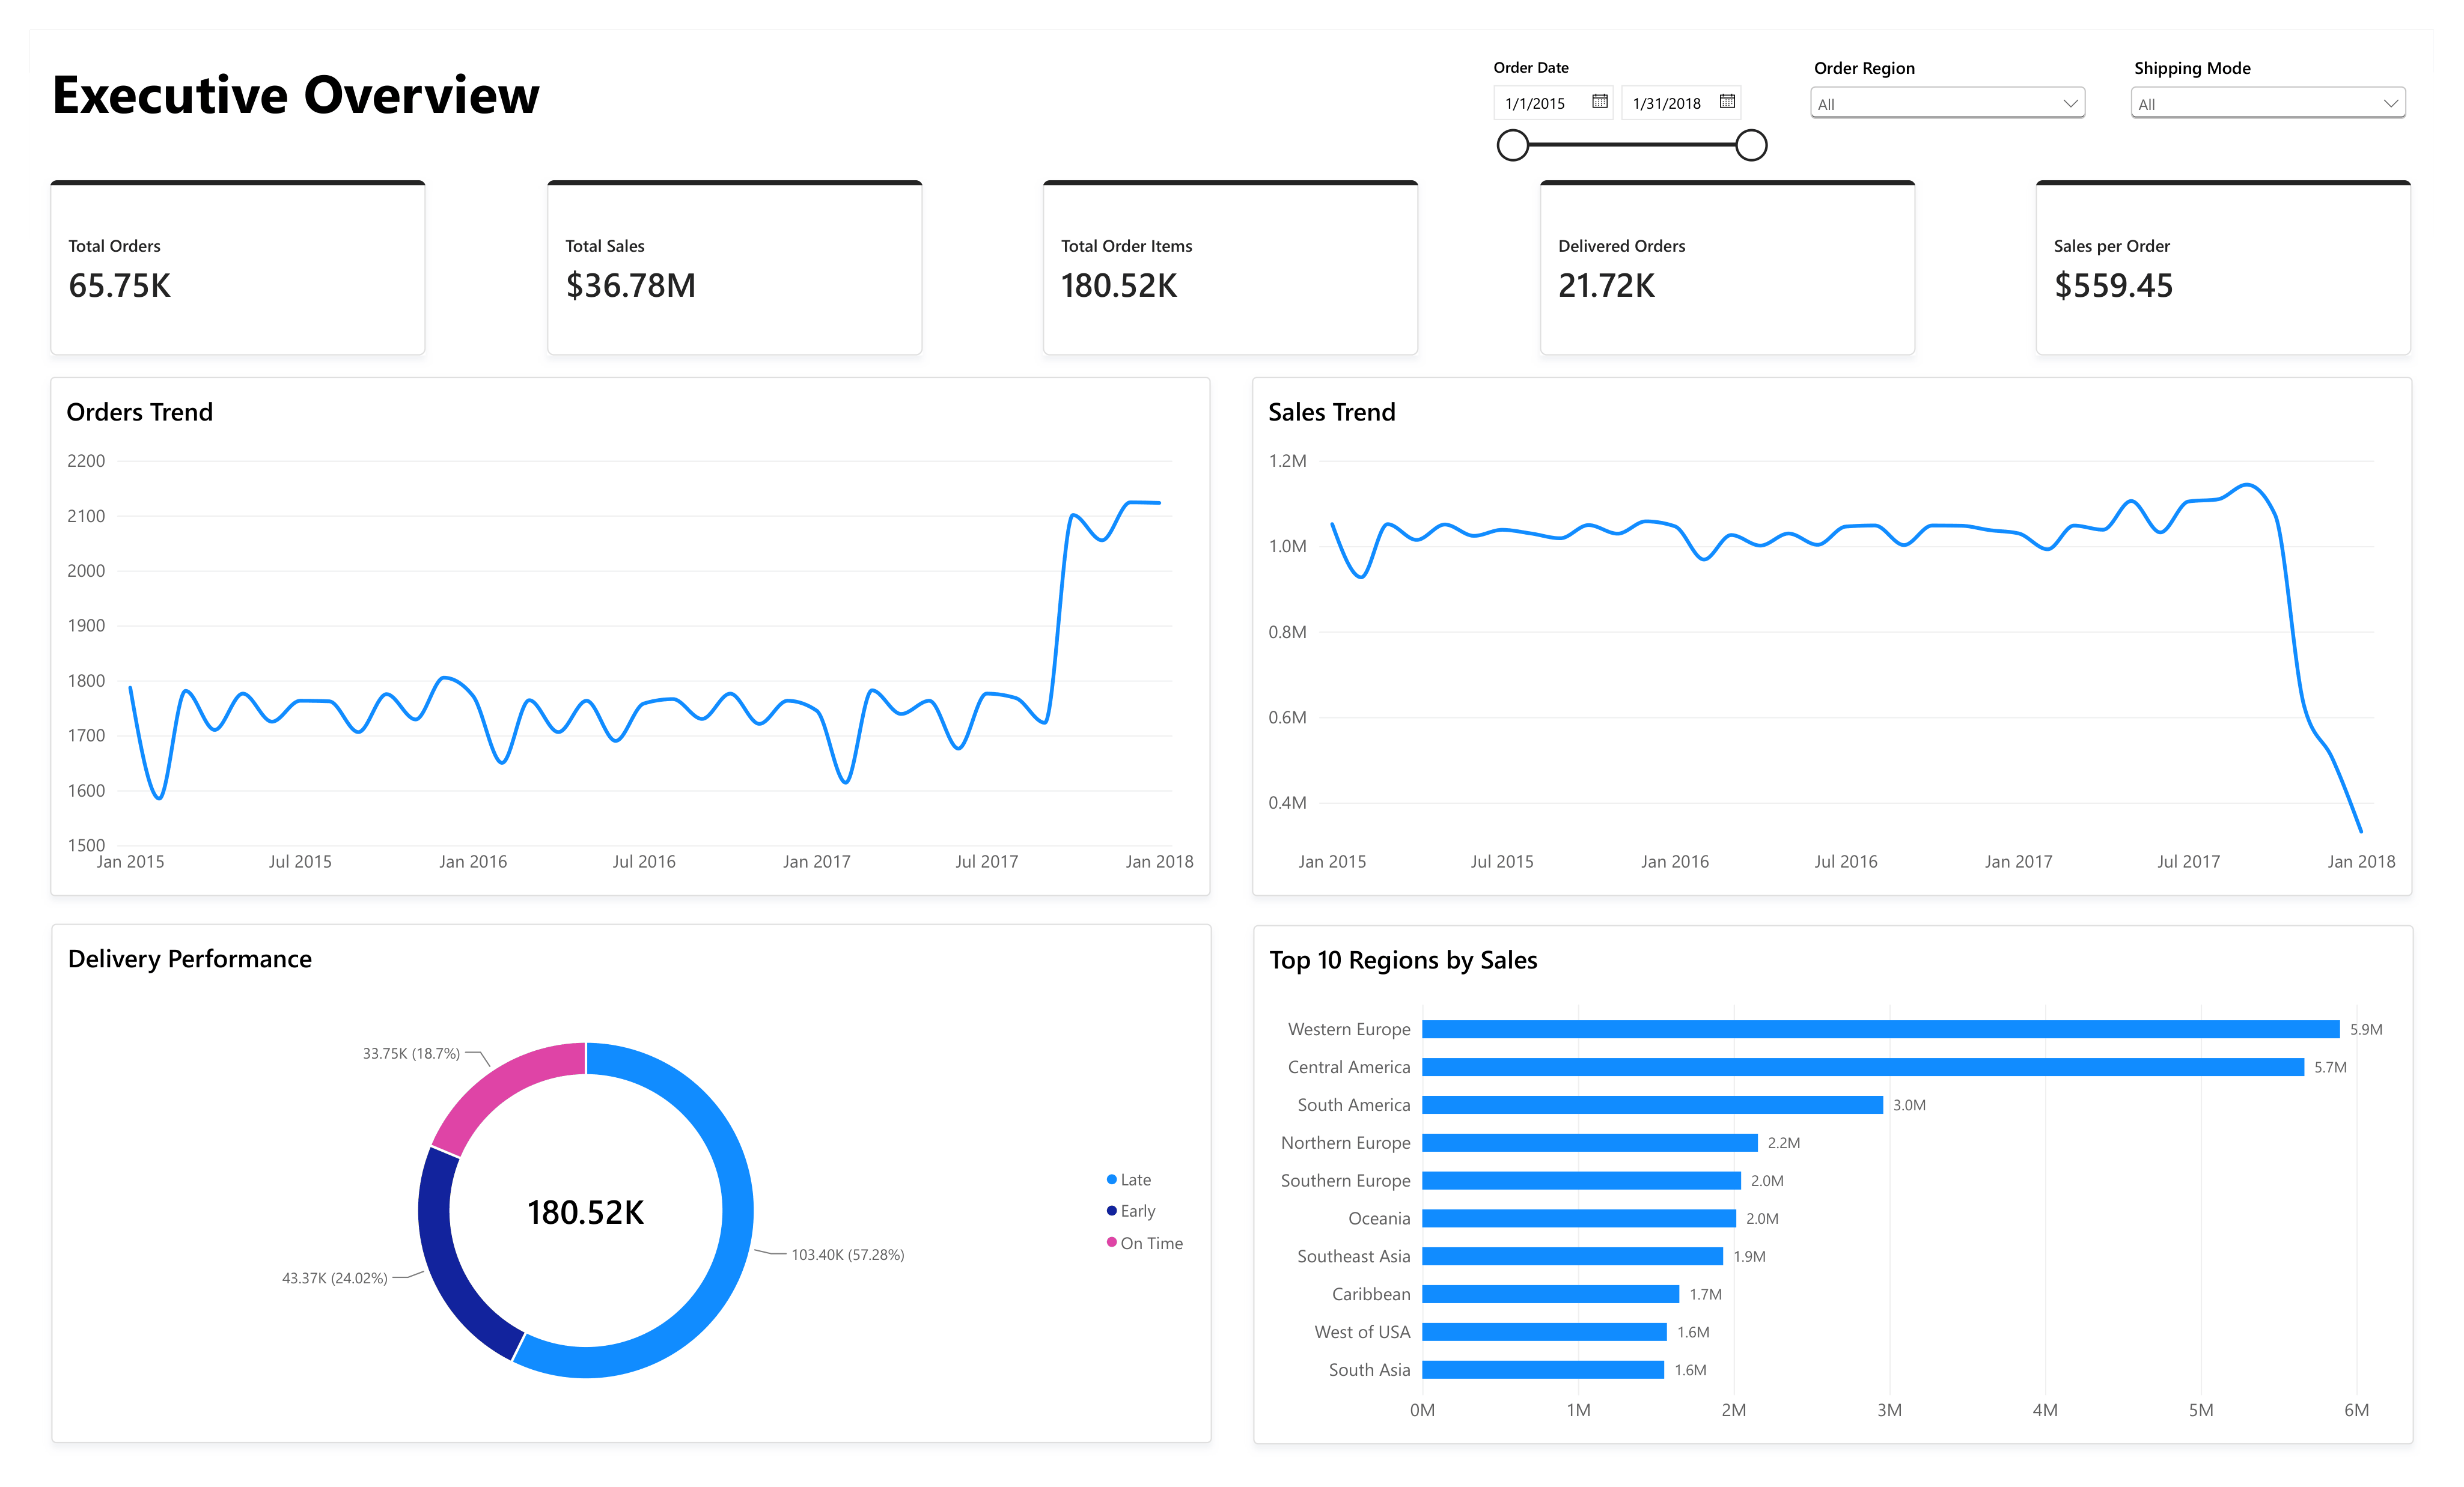

This screenshot's page, from the dashboard's own definition file:
{"tool":"powerbi","page":{"name":"Executive Overview","canvas":[1920,1140],"ordinal":0},"visuals":[{"type":"cardVisual","fields":{"Data":["cleaned_supply_chain.Total Orders"]},"box":[16.2,119.5,300,140.8],"z":0},{"type":"textbox","box":[17.5,20,1887.3,84.9],"z":1000},{"type":"cardVisual","fields":{"Data":["cleaned_supply_chain.Total Sales"]},"box":[412.7,119.5,300,140],"z":2000},{"type":"slicer","fields":{"Values":["cleaned_supply_chain.order_date"]},"box":[1161.4,21.1,229.9,84.5],"z":3000},{"type":"cardVisual","fields":{"Data":["cleaned_supply_chain.Total Order Items"]},"box":[809.3,119.5,300,140],"z":4000},{"type":"cardVisual","fields":{"Data":["cleaned_supply_chain.Delivered Orders"]},"box":[1205.8,119.5,300,140],"z":5000},{"type":"cardVisual","fields":{"Data":["cleaned_supply_chain.Sales per Order"]},"box":[1602.3,119.5,300,140],"z":6000},{"type":"lineChart","title":"Orders Trend","fields":{"Y":["cleaned_supply_chain.Total Orders"],"Category":["cleaned_supply_chain.order_date.Variation.Date Hierarchy.Year","cleaned_supply_chain.order_date.Variation.Date Hierarchy.Month"]},"box":[16.2,276.7,926.8,415],"z":7000},{"type":"lineChart","title":"Sales Trend","fields":{"Y":["cleaned_supply_chain.Total Sales"],"Category":["cleaned_supply_chain.order_date.Variation.Date Hierarchy.Year","cleaned_supply_chain.order_date.Variation.Date Hierarchy.Month"]},"box":[975.8,276.7,926.8,415],"z":8000},{"type":"donutChart","title":"Delivery Performance","fields":{"Category":["cleaned_supply_chain.shipping_performance"],"Y":["CountNonNull(cleaned_supply_chain.order_item_id)"]},"box":[17.2,714.2,926.8,415.3],"z":9000},{"type":"clusteredBarChart","title":"Top 10 Regions by Sales","fields":{"Category":["cleaned_supply_chain.order_region"],"Y":["cleaned_supply_chain.Total Sales"]},"box":[976.8,714.6,927,415],"z":10000},{"type":"slicer","fields":{"Values":["cleaned_supply_chain.order_region"]},"box":[1417.1,21.1,229.9,84.5],"z":11000},{"type":"slicer","fields":{"Values":["cleaned_supply_chain.shipping_mode"]},"box":[1672.9,21.1,229.9,84.5],"z":12000}]}

Visuals, with their boxes on the page's 1920x1140 design canvas (x1, y1, x2, y2). These are canvas units, not pixel positions in the 2464x1487 screenshot, which may show the page scaled, cropped or inside an application window:
cardVisual - cleaned_supply_chain.Total Orders: [x1=16, y1=120, x2=316, y2=260]
textbox: [x1=18, y1=20, x2=1905, y2=105]
cardVisual - cleaned_supply_chain.Total Sales: [x1=413, y1=120, x2=713, y2=260]
slicer - cleaned_supply_chain.order_date: [x1=1161, y1=21, x2=1391, y2=106]
cardVisual - cleaned_supply_chain.Total Order Items: [x1=809, y1=120, x2=1109, y2=260]
cardVisual - cleaned_supply_chain.Delivered Orders: [x1=1206, y1=120, x2=1506, y2=260]
cardVisual - cleaned_supply_chain.Sales per Order: [x1=1602, y1=120, x2=1902, y2=260]
"Orders Trend" lineChart: [x1=16, y1=277, x2=943, y2=692]
"Sales Trend" lineChart: [x1=976, y1=277, x2=1903, y2=692]
"Delivery Performance" donutChart: [x1=17, y1=714, x2=944, y2=1130]
"Top 10 Regions by Sales" clusteredBarChart: [x1=977, y1=715, x2=1904, y2=1130]
slicer - cleaned_supply_chain.order_region: [x1=1417, y1=21, x2=1647, y2=106]
slicer - cleaned_supply_chain.shipping_mode: [x1=1673, y1=21, x2=1903, y2=106]
